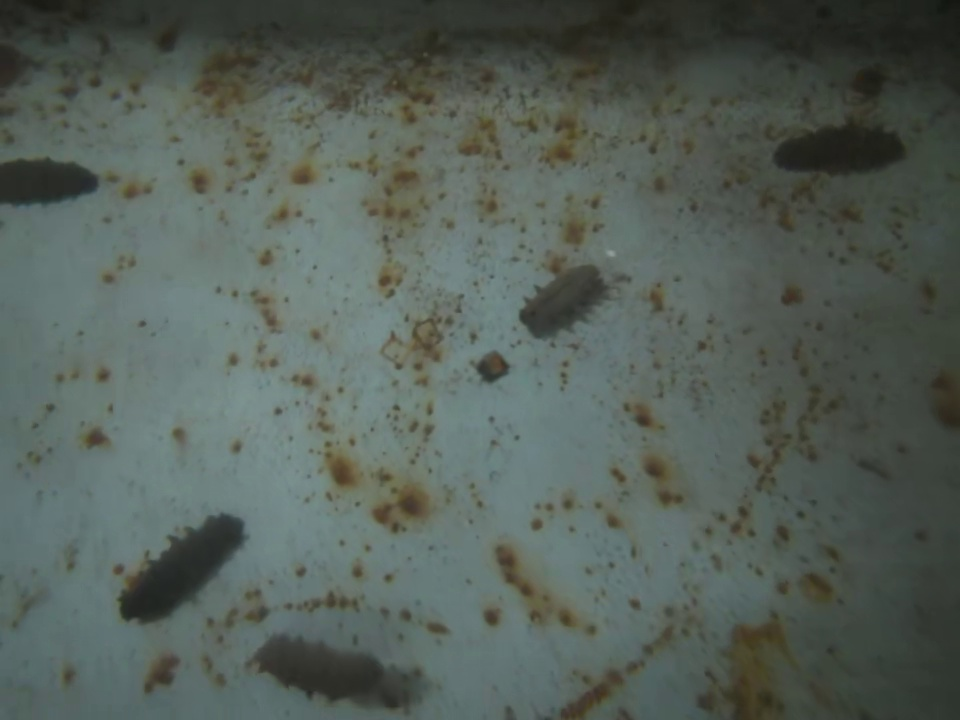seacucumber: (120, 511, 252, 622), (247, 630, 397, 705), (772, 117, 911, 184), (522, 263, 603, 334), (1, 156, 99, 207)
